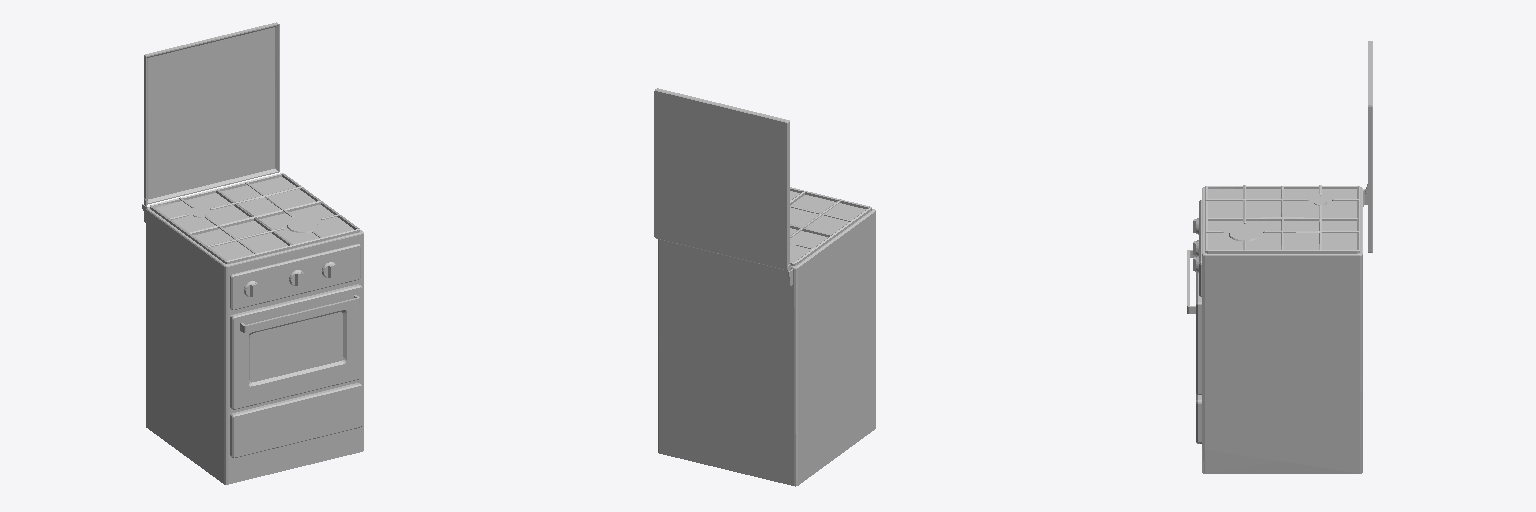
File: gasiniere_2.obj
3 views of the same model, side by side, from view 1: azimuth 30°, elevation 25°; view 2: azimuth 150°, elevation 25°; view 3: azimuth 270°, elevation 25° (orthographic).
Visible parts, largest first — view 1: Object.1, Object.2; view 2: Object.1, Object.2; view 3: Object.1, Object.2.
Boxes of the visible parts, <box> form: Object.1: <box>146,173,363,484</box>; Object.2: <box>142,22,279,222</box>; Object.1: <box>658,187,875,486</box>; Object.2: <box>654,88,792,285</box>; Object.1: <box>1187,185,1362,473</box>; Object.2: <box>1363,41,1372,252</box>.
Bounding box in the file's own units: 0.6012 × 1.51 × 0.6937.